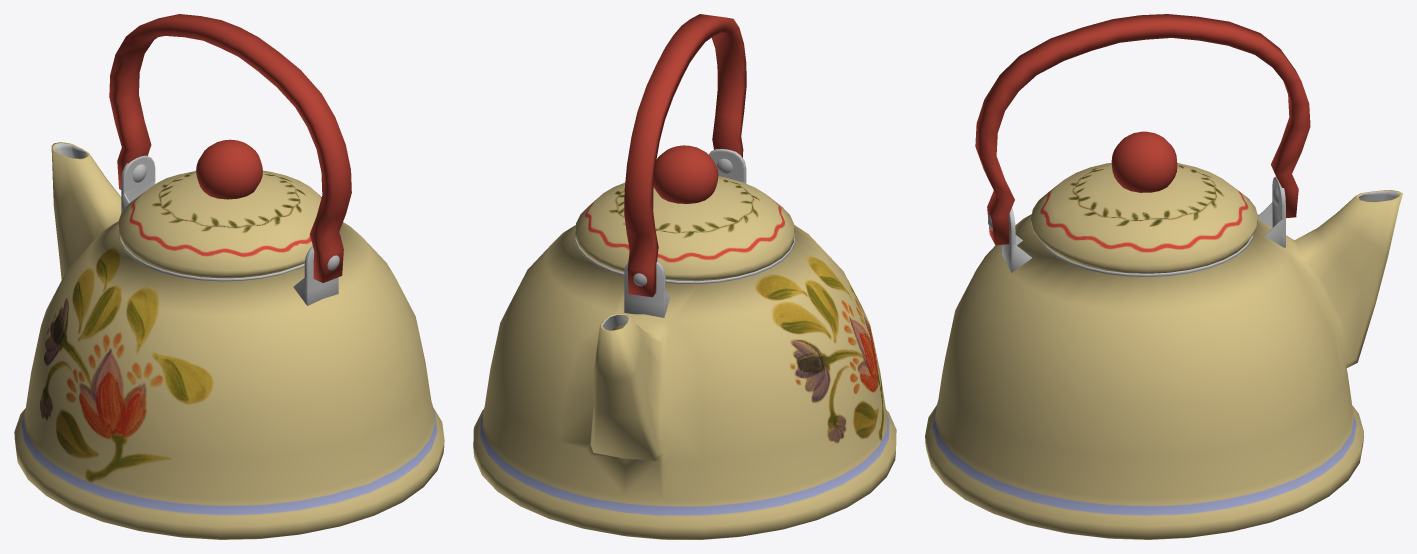
File: caydanlik-cicek-desenli.glb
The picture shows the model from 3 angles, left to right: view 1: azimuth 30°, elevation 25°; view 2: azimuth 150°, elevation 25°; view 3: azimuth 270°, elevation 25°; orthographic projection. The views are drawn at different scales.
Parts seen in each view (by area): view 1: Circle.068; view 2: Circle.068; view 3: Circle.068.
Part boxes in pixels (box(x1,y1,x2,y2)): Circle.068: box(14, 14, 444, 539); Circle.068: box(473, 14, 896, 539); Circle.068: box(925, 14, 1402, 539).
Bounding box in the file's own units: 0.2362 × 0.2586 × 0.2571.
3 materials, 1 textured.
